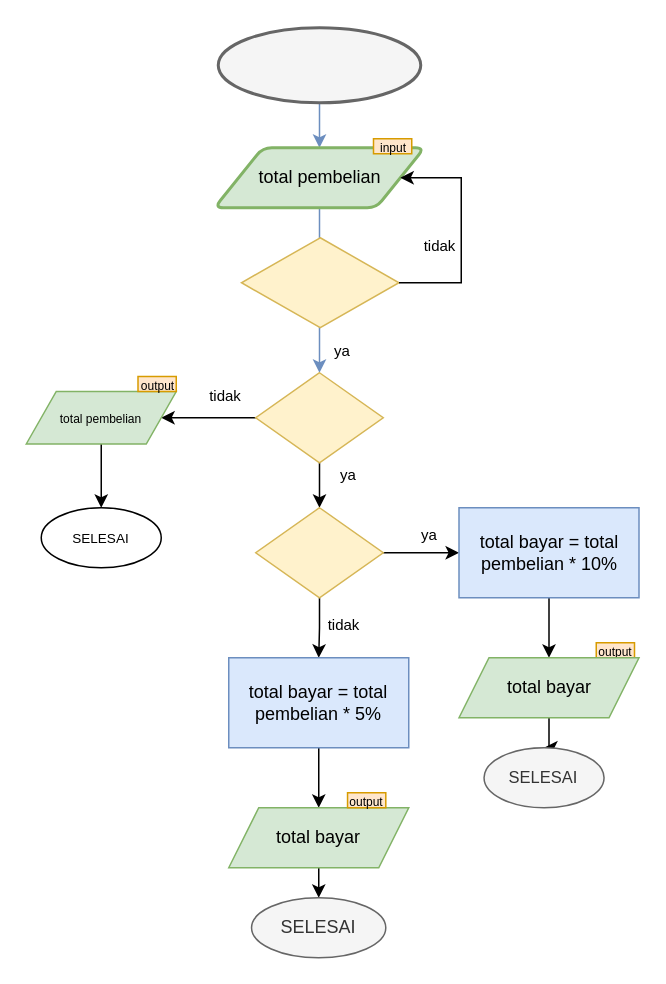
The diagram is 666 pixels wide and 984 high, and some of its shapes have lost their labels. The centre of each missing label's shape, as x and y in pixels:
apakah total pembelian > 1 juta: the point at 318,552
apakah total pembelian > 500 ribu: the point at 318,417
apakah total pembelian adalah angka?: the point at 319,282
MULAI: the point at 319,65
